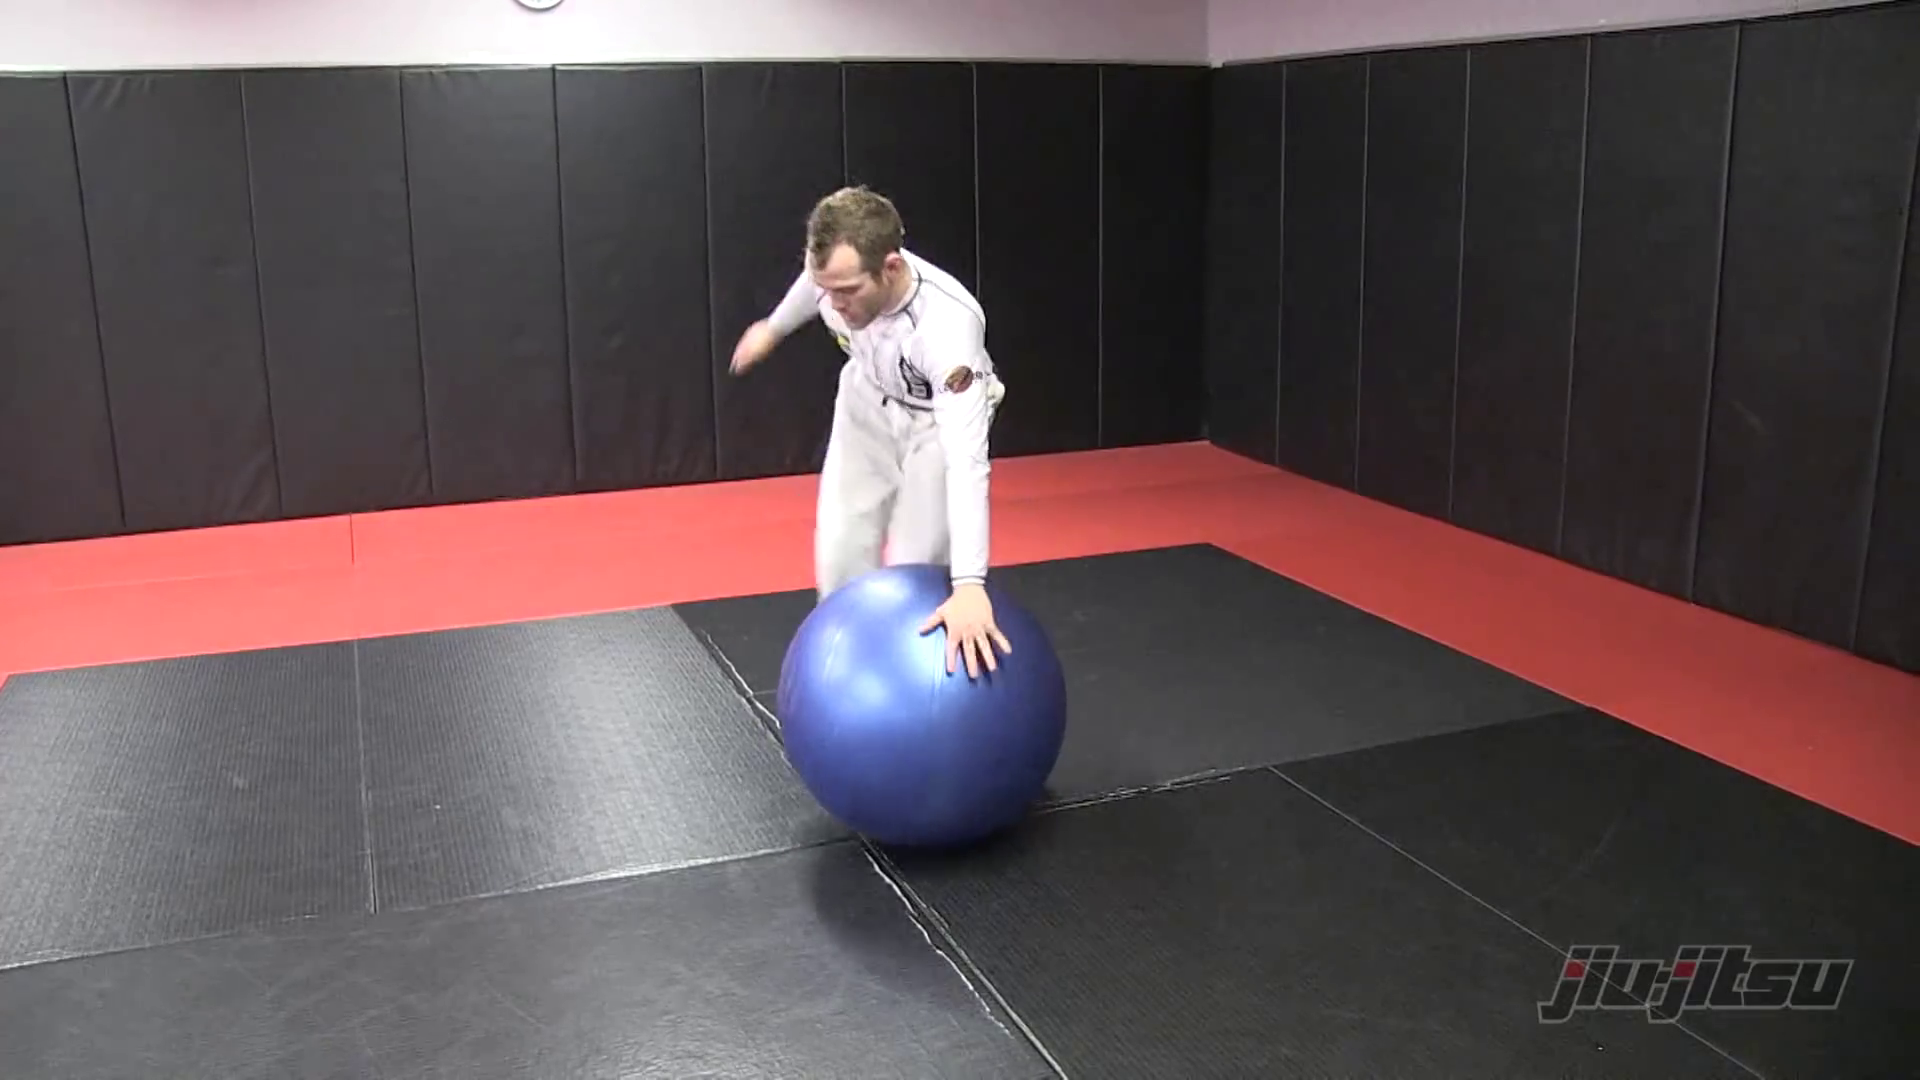yogaball: (765, 546, 1095, 899)
